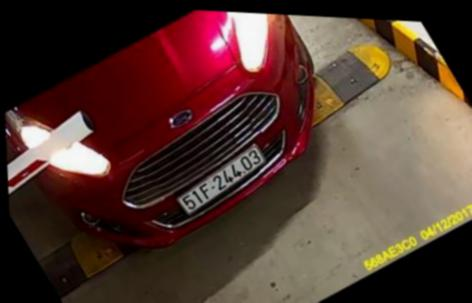License_Plate: (178, 142, 271, 232)
